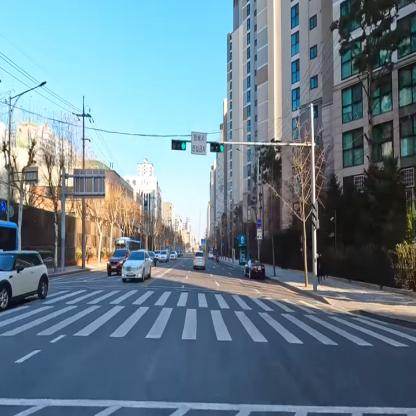Green: (172, 138, 187, 151), (210, 142, 224, 153)
